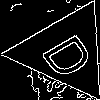D: (40, 27, 100, 82)
